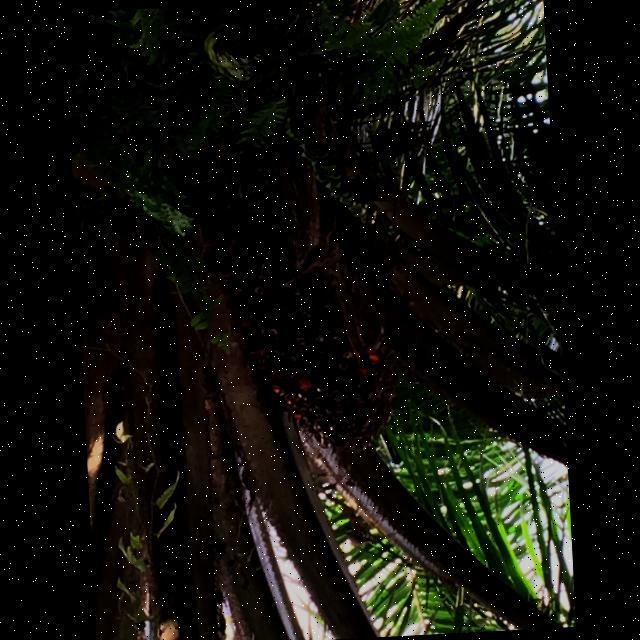Ripe: (230, 262, 401, 455)
